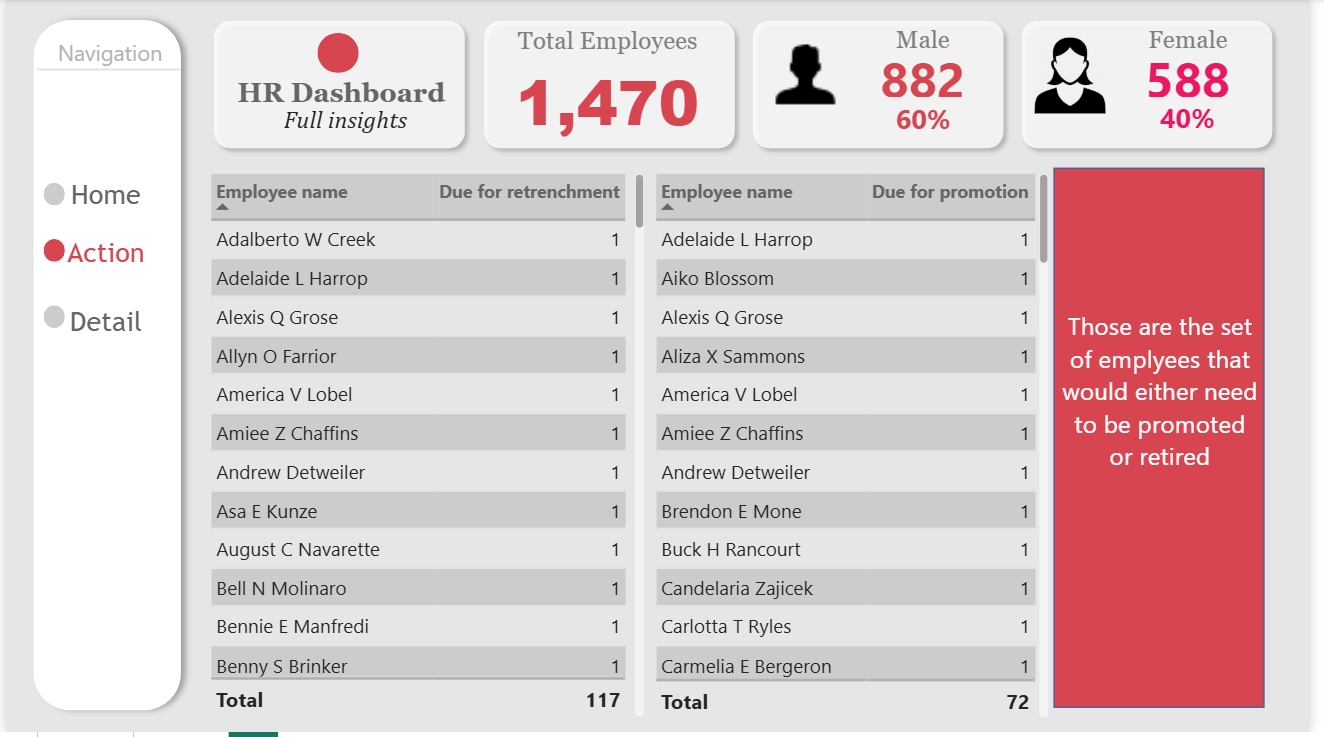

Layout of this report page (visuals, bound fields, positions):
{"tool":"powerbi","page":{"name":"Action","canvas":[1280,720],"ordinal":2},"visuals":[{"type":"shape","box":[1028.6,166.2,207,530.1],"z":0},{"type":"shape","box":[16.5,9.6,166.5,699.2],"z":1000},{"type":"shape","box":[195.4,12.4,264.3,143.1],"z":2000},{"type":"shape","box":[459.7,12.4,264.3,143.1],"z":3000},{"type":"shape","box":[724,12.4,264.3,143.1],"z":4000},{"type":"shape","box":[988.2,12.4,264.3,143.1],"z":5000},{"type":"textbox","box":[209.7,71.2,238.7,51.4],"z":6000},{"type":"textbox","box":[36.9,33,130.5,51.4],"z":7000},{"type":"textbox","box":[209.7,97.6,251.9,55.4],"z":8000},{"type":"shape","box":[305.9,33,40.9,39.6],"z":9000},{"type":"card","title":"Total Employees","fields":{"Values":["All Measures.Total Emp"]},"box":[468,27.5,246.4,112.9],"z":10000},{"type":"card","title":"Male","fields":{"Values":["All Measures.Male"]},"box":[814.8,26.2,170.7,75.7],"z":11000},{"type":"card","fields":{"Values":["All Measures.Male %"]},"box":[834.1,90.8,132.1,55.1],"z":12000},{"type":"card","title":"Female","fields":{"Values":["All Measures.Female"]},"box":[1068.7,26.2,183.1,75.7],"z":13000},{"type":"card","fields":{"Values":["All Measures.Female %"]},"box":[1083.9,90.8,152.8,53.7],"z":14000},{"type":"image","box":[736.3,26.2,95,90.8],"z":15000},{"type":"image","box":[1004.7,33,79.8,84],"z":16000},{"type":"tableEx","fields":{"Values":["HR employee data.Emplyee name","All Measures.Due for retirment"]},"box":[195.4,166.5,436.3,542.3],"z":17000},{"type":"tableEx","fields":{"Values":["HR employee data.Emplyee name","All Measures.Due for promotion"]},"box":[631.7,166.5,396.4,543.7],"z":18000},{"type":"textbox","box":[1029.3,299.6,206.6,217.4],"z":19000},{"type":"shape","box":[36.9,300.7,21.1,22.4],"z":20000},{"type":"actionButton","title":"Detail","box":[27.7,300.7,139.8,58],"z":21000},{"type":"shape","box":[36.9,236,21.1,22.4],"z":22000},{"type":"actionButton","title":"Action","box":[27.7,233.4,139.8,65.9],"z":23000},{"type":"shape","box":[36.9,180.7,21.1,22.4],"z":24000},{"type":"actionButton","title":"Home","box":[27.7,176.7,139.8,56.7],"z":25000},{"type":"shape","box":[30.2,61.6,140.1,15.7],"z":27000}]}

Visuals, with their boxes in screenshot pixels (x1, y1, x2, y2), scaled from the page's 1280x720 canvas onto the 1324x737 screenshot:
shape: 1064:170:1278:713
shape: 17:10:189:726
shape: 202:13:476:159
shape: 476:13:749:159
shape: 749:13:1022:159
shape: 1022:13:1296:159
textbox: 217:73:464:125
textbox: 38:34:173:86
textbox: 217:100:477:157
shape: 316:34:359:74
"Total Employees" card: 484:28:739:144
"Male" card: 843:27:1019:104
card - All Measures.Male %: 863:93:999:149
"Female" card: 1105:27:1295:104
card - All Measures.Female %: 1121:93:1279:148
image: 762:27:860:120
image: 1039:34:1122:120
tableEx - HR employee data.Emplyee name x All Measures.Due for retirment: 202:170:653:726
tableEx - HR employee data.Emplyee name x All Measures.Due for promotion: 653:170:1063:727
textbox: 1065:307:1278:529
shape: 38:308:60:331
"Detail" actionButton: 29:308:173:367
shape: 38:242:60:265
"Action" actionButton: 29:239:173:306
shape: 38:185:60:208
"Home" actionButton: 29:181:173:239
shape: 31:63:176:79
